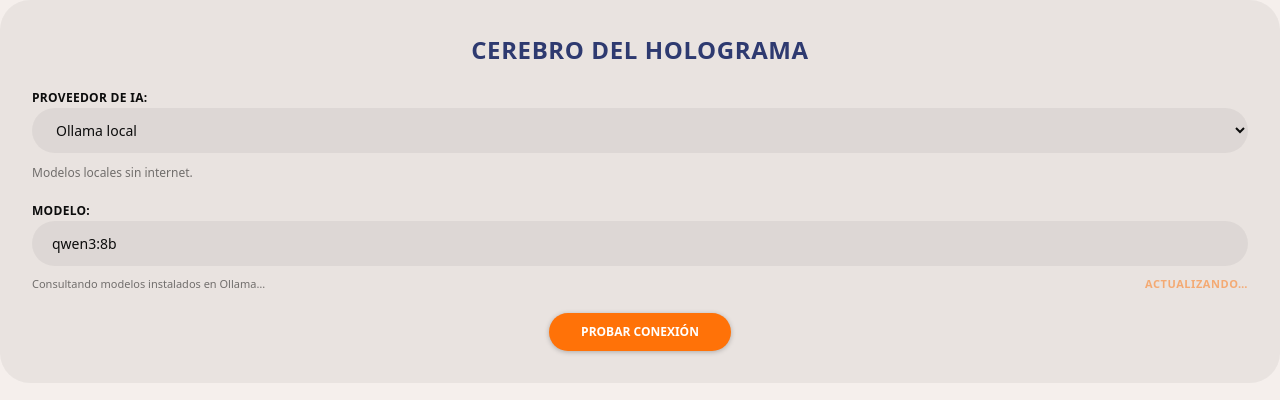
Test: ProviderConfigCard › locks Ollama controls while one discovery request is pending and restores them
This screenshot has width=1280, height=400.
Expected: the field with placeholder "gemma3:1b" is disabled, 32,221 -> 1248,266
Click the button "Actualizando…" at [1196, 284], box 1145,276 -> 1248,292
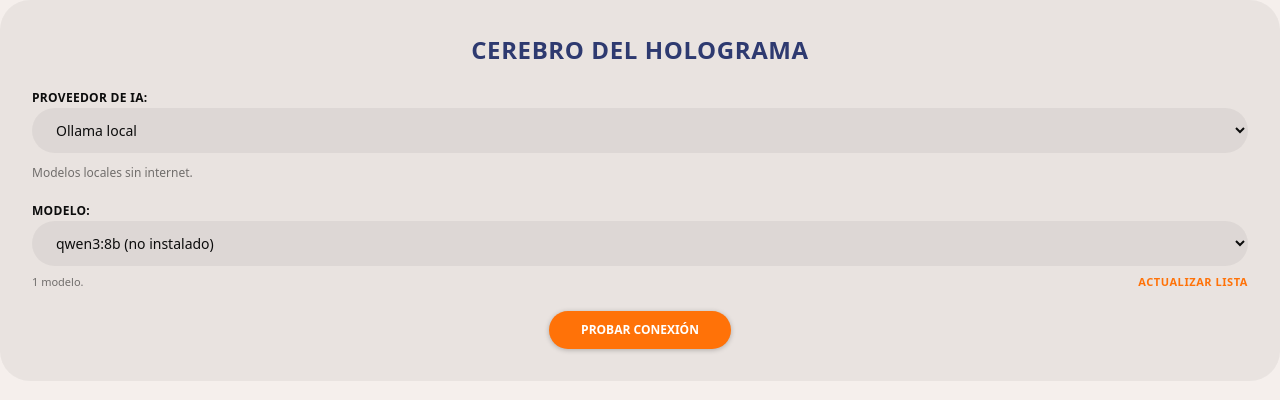
Now the dropdown named "Modelo Ollama instalado" is enabled, box 32,221 -> 1248,266
Now the button "Actualizar lista" is enabled, box 1138,274 -> 1248,290
